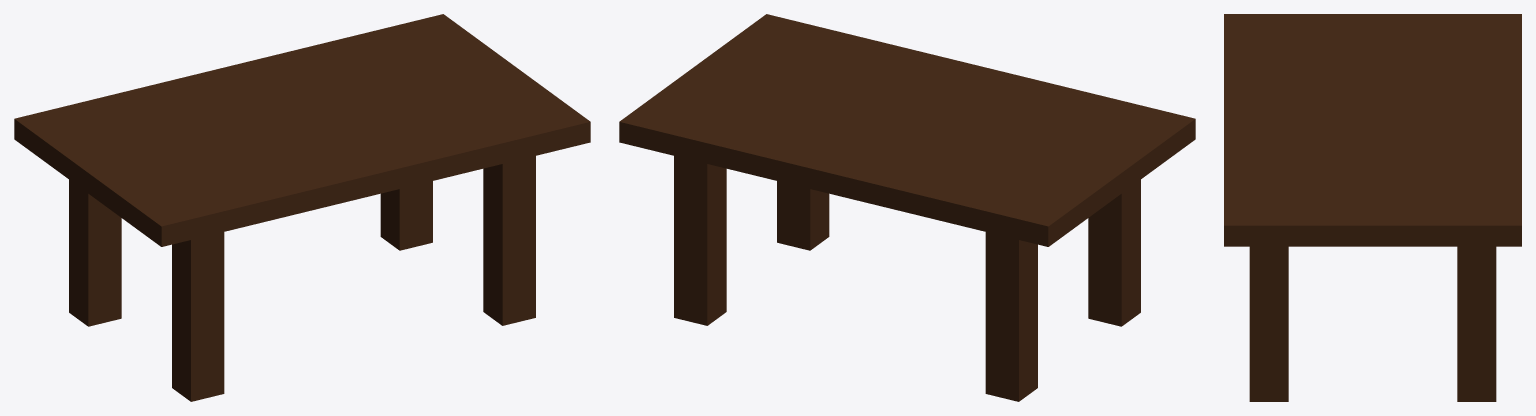
File: table.fbx
3 renders of one model, left to right at view 1: azimuth 30°, elevation 25°; view 2: azimuth 150°, elevation 25°; view 3: azimuth 270°, elevation 25°, orthographic.
Parts seen in each view (by area): view 1: Cube.004, Cube.003, Cube.002, Cube, Cube.001; view 2: Cube.004, Cube, Cube.001, Cube.003, Cube.002; view 3: Cube.004, Cube.001, Cube.002.
Boxes of the visible parts, x1,y1,x2,y2 form: Cube.004: [14, 14, 590, 246]; Cube.003: [172, 232, 224, 401]; Cube.002: [483, 156, 535, 325]; Cube: [69, 179, 121, 326]; Cube.001: [380, 181, 432, 250]; Cube.004: [619, 14, 1195, 246]; Cube: [985, 232, 1037, 401]; Cube.001: [674, 156, 726, 325]; Cube.003: [1088, 179, 1140, 326]; Cube.002: [777, 181, 829, 250]; Cube.004: [1224, 14, 1521, 246]; Cube.001: [1457, 246, 1496, 401]; Cube.002: [1249, 246, 1288, 401].
Bounding box in the file's own units: 965 × 419 × 573.
